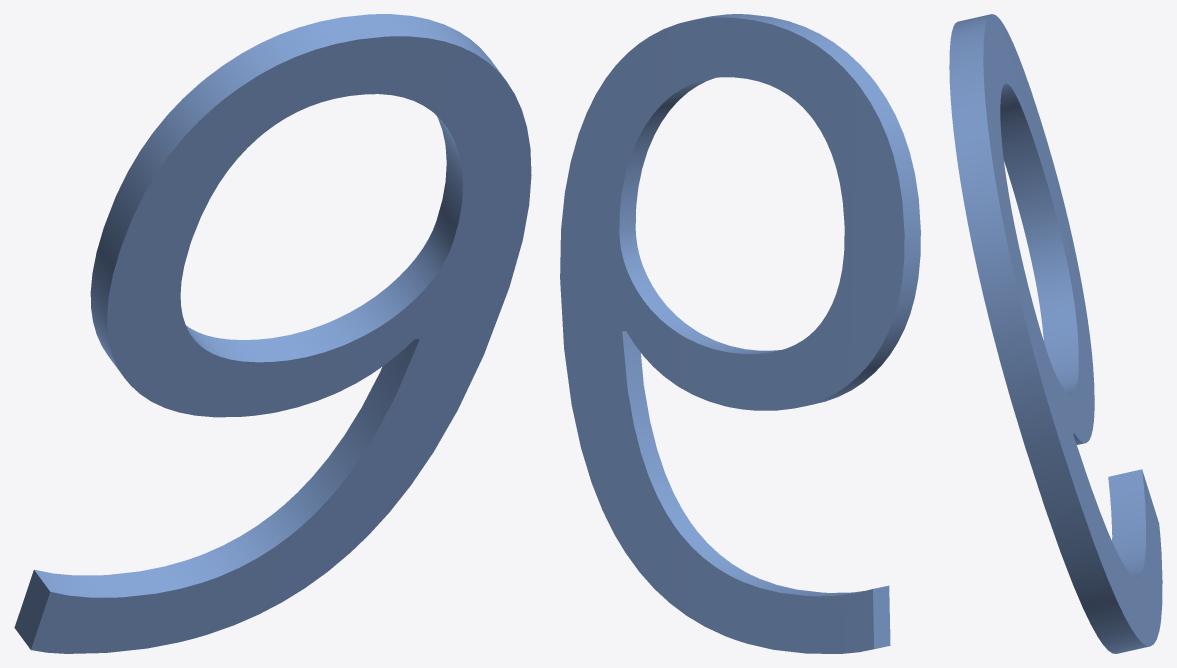
The model's file is Number_9.gltf.
The picture shows the model from 3 angles, left to right: view 1: azimuth 30°, elevation 25°; view 2: azimuth 150°, elevation 25°; view 3: azimuth 270°, elevation 25°; orthographic projection. The views are drawn at different scales.
Parts seen in each view (by area): view 1: Sub_3_Cell_2_3_Number_9; view 2: Sub_3_Cell_2_3_Number_9; view 3: Sub_3_Cell_2_3_Number_9.
Part boxes in pixels (x1,y1,x2,y2): Sub_3_Cell_2_3_Number_9: (14,14,531,653); Sub_3_Cell_2_3_Number_9: (560,14,920,653); Sub_3_Cell_2_3_Number_9: (949,14,1162,653).
Bounding box in the file's own units: 0.0172 × 0.0249 × 0.00769.
